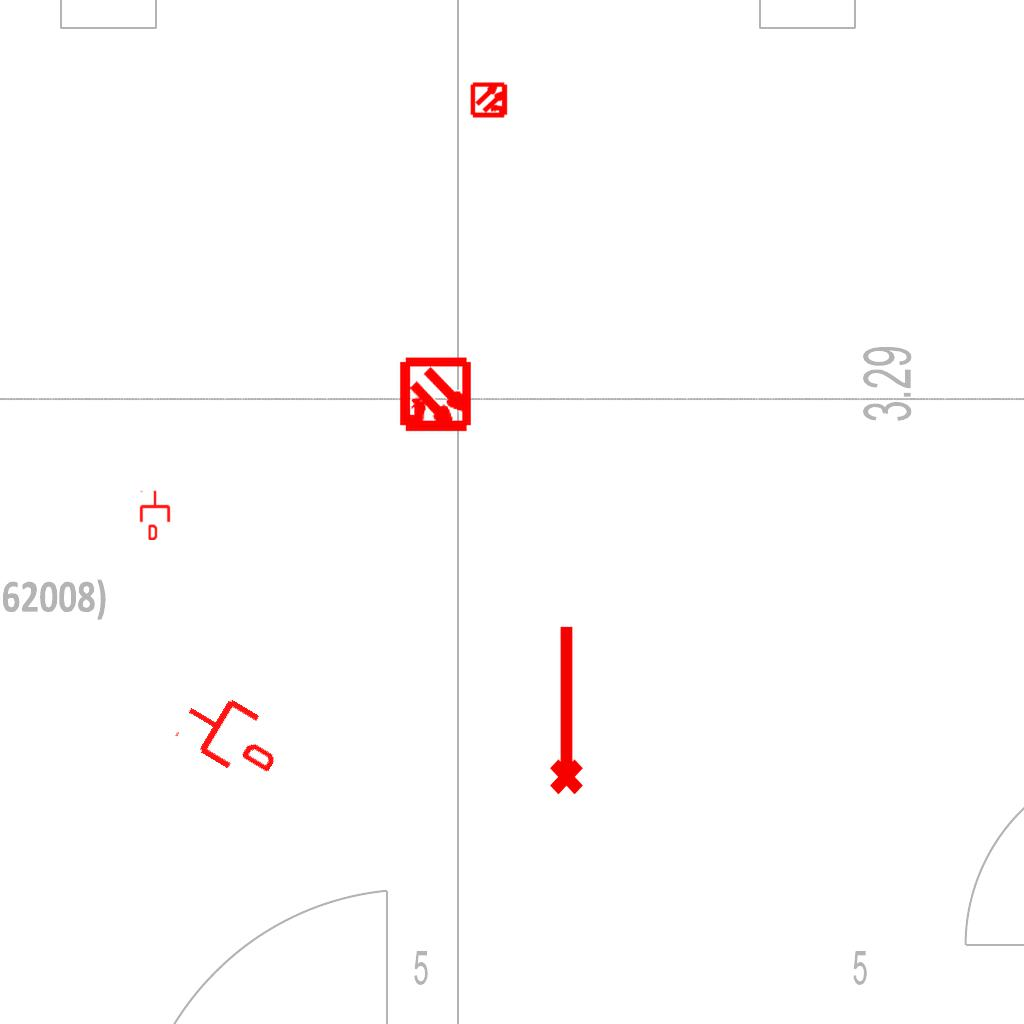ASR_Ansaugoeffnung: (541, 621, 587, 797)
Datenanschluss_einfach: (170, 679, 293, 791), (138, 490, 172, 540)
OT_Multisensormelder_(Kombination_RMO_WMD): (379, 340, 492, 453), (462, 72, 518, 128)
